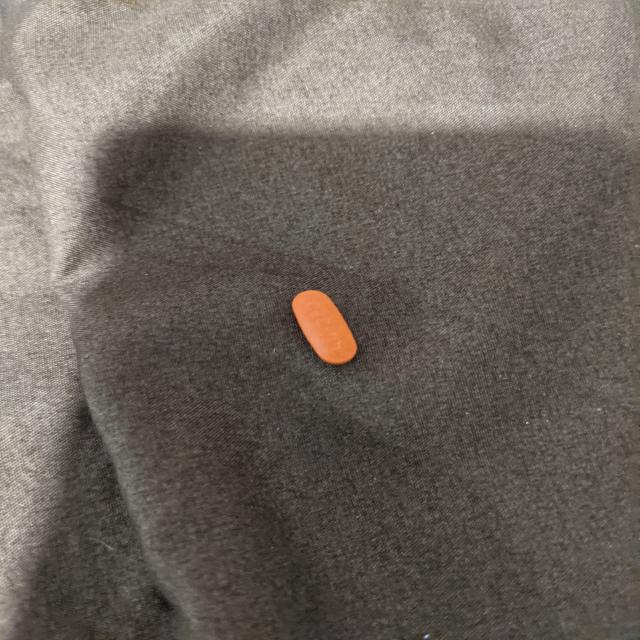non-organic waste: (291, 290, 358, 365)
